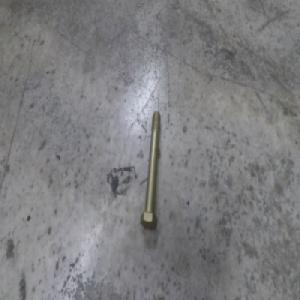Bolt: (137, 109, 158, 230)
